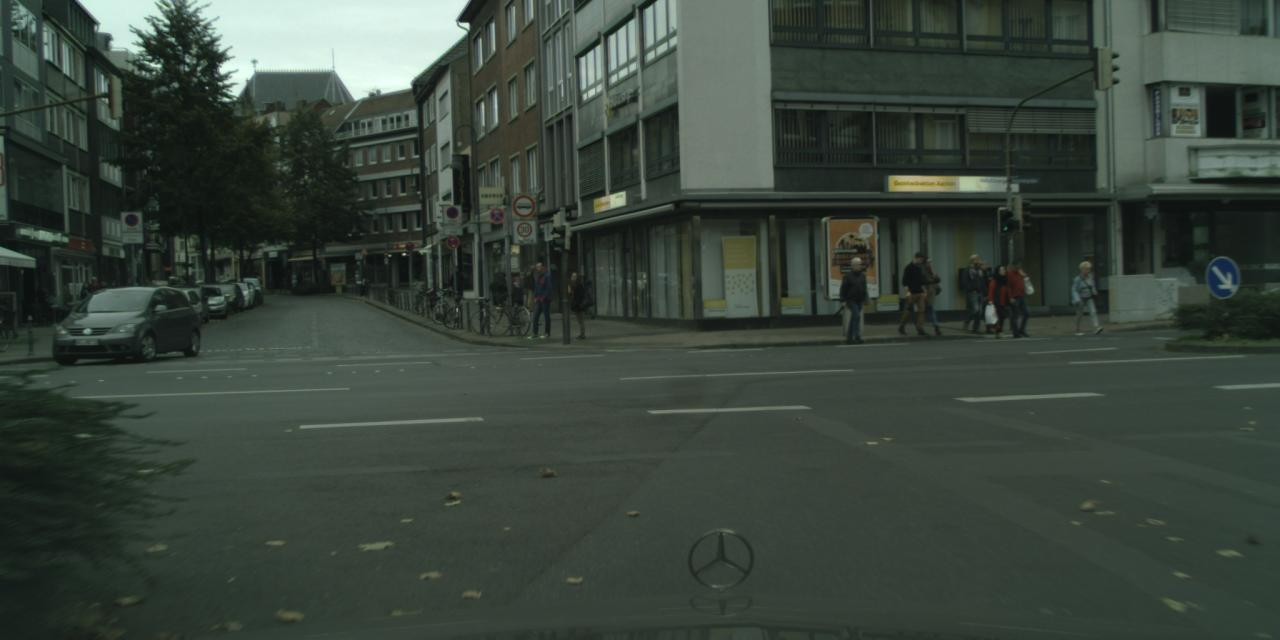ped: (838, 257, 872, 342), (898, 251, 932, 334), (1002, 258, 1034, 337), (524, 262, 555, 338), (957, 253, 987, 329), (911, 256, 940, 330), (1071, 260, 1100, 332), (984, 264, 1012, 334), (967, 260, 995, 329), (564, 272, 592, 340), (522, 264, 540, 312), (448, 266, 465, 308), (87, 276, 101, 313), (77, 282, 91, 316), (98, 280, 111, 310), (140, 278, 152, 307), (109, 280, 120, 308), (170, 278, 178, 301), (295, 271, 303, 291), (290, 272, 298, 291)
